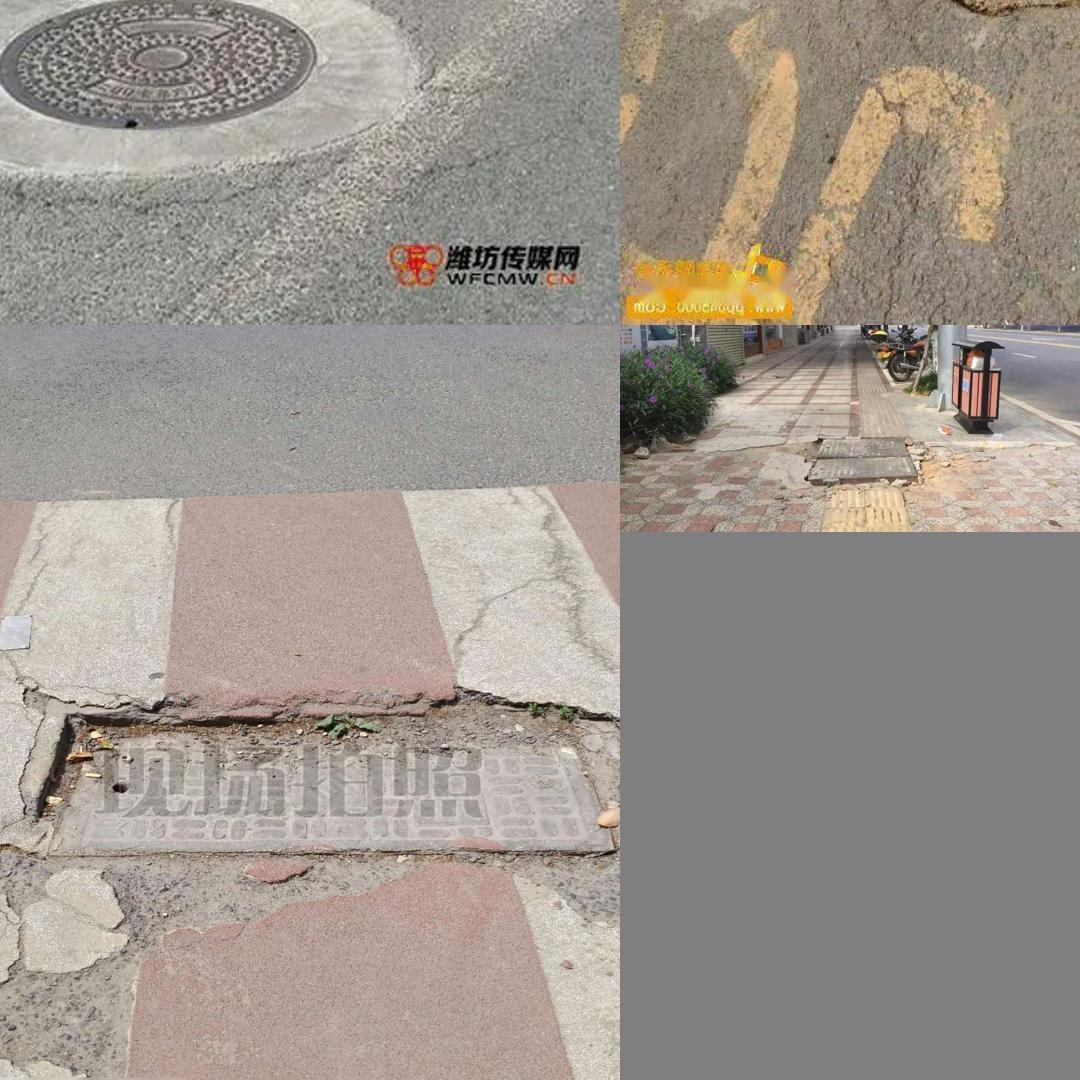circle: (15, 704, 620, 865), (785, 424, 950, 508), (802, 0, 1080, 43)
